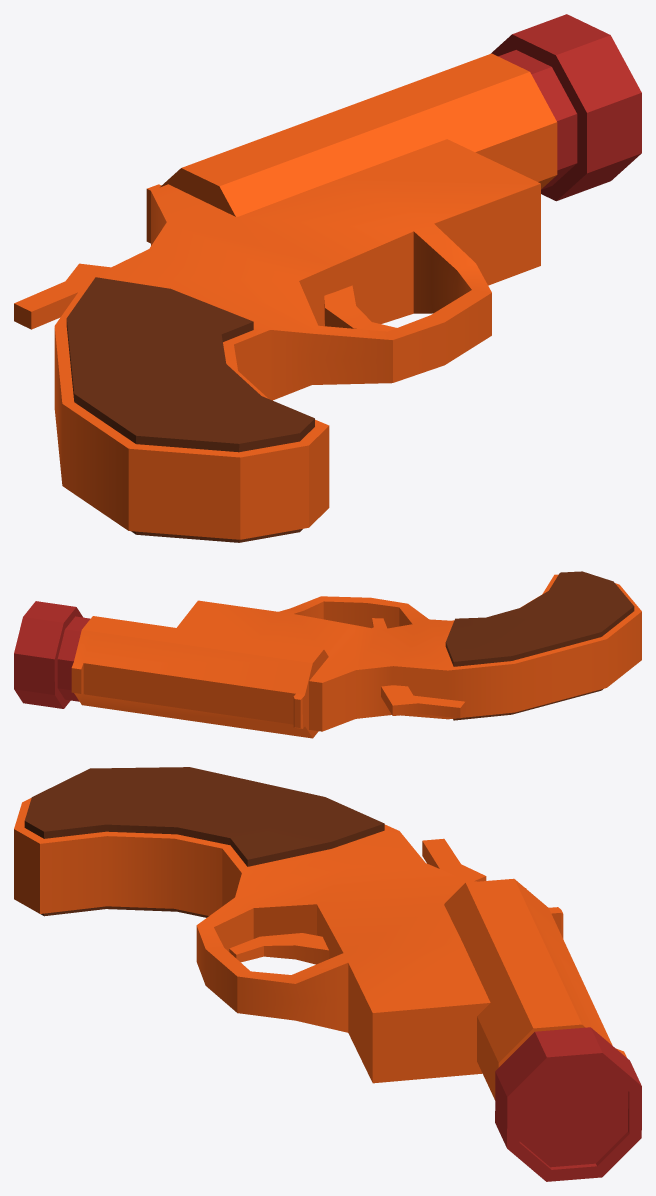
File: Pistola de bengalas.fbx
The picture shows the model from 3 angles, top to bottom: view 1: azimuth 30°, elevation 25°; view 2: azimuth 150°, elevation 25°; view 3: azimuth 270°, elevation 25°; orthographic projection. The views are drawn at different scales.
Parts seen in each view (by area): view 1: Cube.002; view 2: Cube.002; view 3: Cube.002.
Part boxes in pixels (x1,y1,x2,y2): Cube.002: [14, 14, 641, 542]; Cube.002: [14, 571, 641, 738]; Cube.002: [14, 767, 641, 1181].
Bounding box in the file's own units: 43.72 × 7.98 × 36.47.
